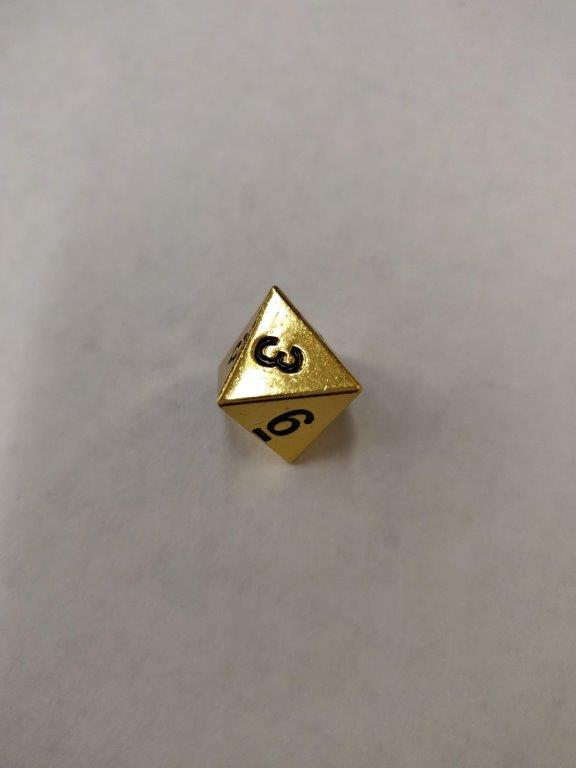d8-3: (215, 285, 361, 463)
